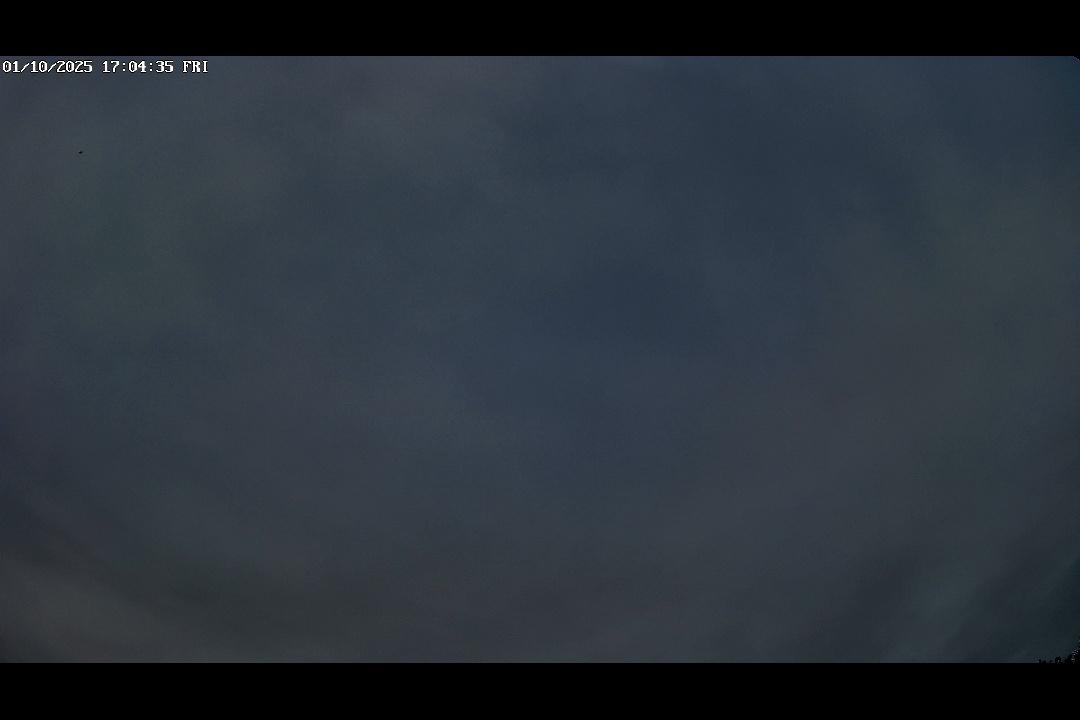Plane: (71, 146, 88, 158)
